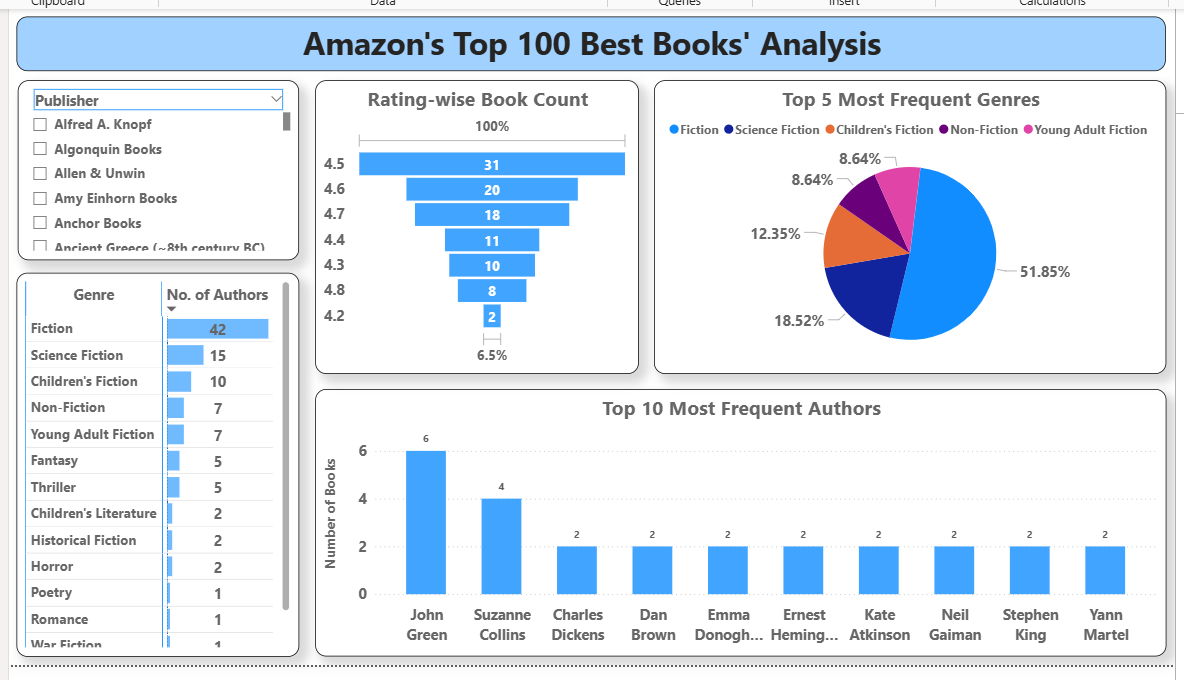

The dashboard page shown, as its layout file describes it:
{"tool":"powerbi","page":{"name":"Amazon","canvas":[1280,720],"ordinal":0},"visuals":[{"type":"columnChart","title":"Top 10 Most Frequent Authors","fields":{"Y":["CountNonNull(amazon_100_mustreads.Title)"],"Category":["amazon_100_mustreads.Author"]},"box":[336.2,417.2,934.5,293.7],"z":0},{"type":"pieChart","title":"Top 5 Most Frequent Genres","fields":{"Category":["amazon_100_mustreads.Genre"],"Y":["CountNonNull(amazon_100_mustreads.Title)"]},"box":[708.1,78.2,562.6,322.5],"z":1000},{"type":"funnel","title":"Rating-wise Book Count","fields":{"Category":["amazon_100_mustreads.Rating"],"Y":["CountNonNull(amazon_100_mustreads.Title)"]},"box":[336.2,78.2,355.4,322.5],"z":2000},{"type":"pivotTable","fields":{"Rows":["amazon_100_mustreads.Genre"],"Values":["CountNonNull(amazon_100_mustreads.Author)"]},"box":[8.2,289.5,310.1,421.3],"z":3000},{"type":"slicer","fields":{"Values":["amazon_100_mustreads.Publisher"]},"box":[9.6,78.2,308.7,197.6],"z":4000},{"type":"textbox","title":"Amazon''s Top 100 Best Books'' Analysis","box":[8.6,8.6,1262,59.9],"z":5000}]}

Visuals, with their boxes on the page's 1280x720 design canvas (x1, y1, x2, y2). These are canvas units, not pixel positions in the 1184x680 screenshot, which may show the page scaled, cropped or inside an application window:
"Top 10 Most Frequent Authors" columnChart: left=336, top=417, right=1271, bottom=711
"Top 5 Most Frequent Genres" pieChart: left=708, top=78, right=1271, bottom=401
"Rating-wise Book Count" funnel: left=336, top=78, right=692, bottom=401
pivotTable - amazon_100_mustreads.Genre x CountNonNull(amazon_100_mustreads.Author): left=8, top=290, right=318, bottom=711
slicer - amazon_100_mustreads.Publisher: left=10, top=78, right=318, bottom=276
"Amazon''s Top 100 Best Books'' Analysis" textbox: left=9, top=9, right=1271, bottom=68
